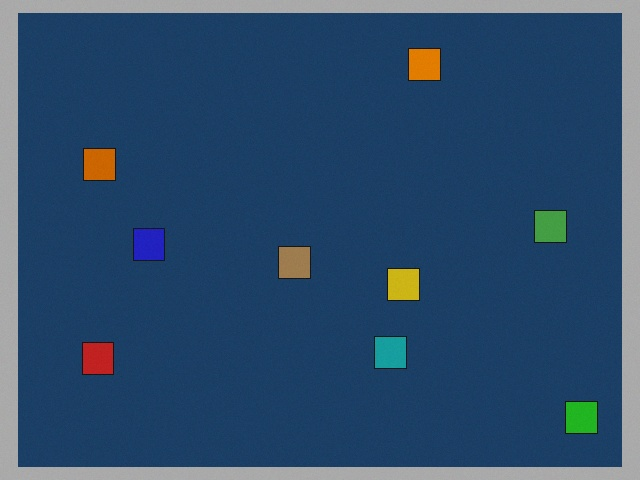block: (552, 393, 598, 434), (82, 337, 125, 375), (84, 149, 127, 184), (404, 49, 441, 89), (522, 211, 566, 243), (133, 229, 173, 261), (372, 331, 406, 368), (384, 267, 419, 300), (278, 247, 311, 279)
